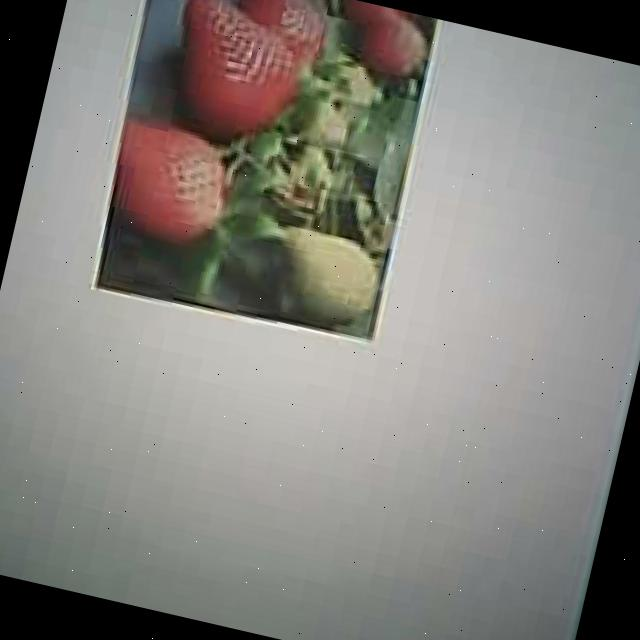strawberry: (162, 0, 314, 144), (102, 116, 234, 242), (272, 227, 384, 336)
